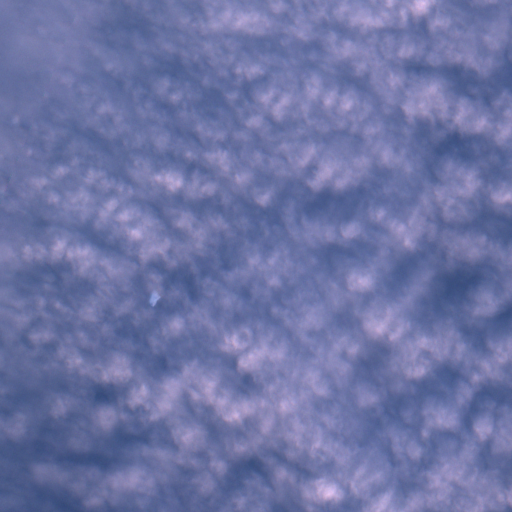Iceberg: (149, 292, 160, 305)
